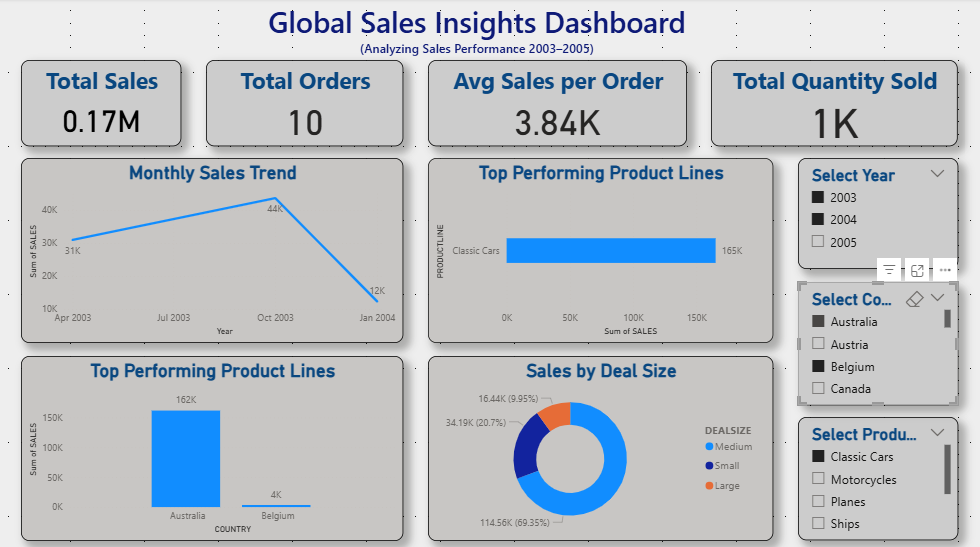

What the dashboard file says about the page in this screenshot:
{"tool":"powerbi","page":{"name":"Page 1","canvas":[1280,720],"ordinal":0},"visuals":[{"type":"textbox","box":[0,0,1248,80],"z":0},{"type":"card","title":"Total Sales","fields":{"Values":["Sum(sales_data_sample.SALES)"]},"box":[32,80,208,112],"z":1000},{"type":"card","title":"Total Orders","fields":{"Values":["Count(sales_data_sample.ORDERNUMBER)"]},"box":[272,80,256,112],"z":2000},{"type":"card","title":"Avg Sales per Order","fields":{"Values":["Avg(sales_data_sample.SALES)"]},"box":[560,80,336,112],"z":3000},{"type":"card","title":"Total Quantity Sold","fields":{"Values":["Sum(sales_data_sample.QUANTITYORDERED)"]},"box":[928,80,320,112],"z":4000},{"type":"lineChart","title":"Monthly Sales Trend","fields":{"Category":["sales_data_sample.ORDERDATE.Variation.Date Hierarchy.Year","sales_data_sample.ORDERDATE.Variation.Date Hierarchy.Quarter","sales_data_sample.ORDERDATE.Variation.Date Hierarchy.Month","sales_data_sample.ORDERDATE.Variation.Date Hierarchy.Day"],"Y":["Sum(sales_data_sample.SALES)"]},"box":[32,208,496,240],"z":5000},{"type":"clusteredBarChart","title":"Top Performing Product Lines","fields":{"Category":["sales_data_sample.PRODUCTLINE"],"Y":["Sum(sales_data_sample.SALES)"]},"box":[560,208,448,240],"z":6000},{"type":"clusteredColumnChart","title":"Top Performing Product Lines","fields":{"Category":["sales_data_sample.COUNTRY"],"Y":["Sum(sales_data_sample.SALES)"]},"box":[32,464,496,240],"z":7000},{"type":"donutChart","title":"Sales by Deal Size","fields":{"Category":["sales_data_sample.DEALSIZE"],"Y":["Sum(sales_data_sample.SALES)"]},"box":[560,464,448,240],"z":8000},{"type":"slicer","title":"Total Sales","fields":{"Values":["sales_data_sample.YEAR_ID"]},"box":[1040,208,208,144],"z":9000},{"type":"slicer","title":"Total Sales","fields":{"Values":["sales_data_sample.COUNTRY"]},"box":[1040,368,208,160],"z":10000},{"type":"slicer","title":"Total Sales","fields":{"Values":["sales_data_sample.PRODUCTLINE"]},"box":[1040,544,208,160],"z":11000}]}

Visuals, with their boxes in screenshot pixels (x1, y1, x2, y2), scaled from the page's 1280x720 canvas onto the 980x547 screenshot:
textbox: 0:0:956:61
"Total Sales" card: 24:61:184:146
"Total Orders" card: 208:61:404:146
"Avg Sales per Order" card: 429:61:686:146
"Total Quantity Sold" card: 710:61:956:146
"Monthly Sales Trend" lineChart: 24:158:404:340
"Top Performing Product Lines" clusteredBarChart: 429:158:772:340
"Top Performing Product Lines" clusteredColumnChart: 24:353:404:535
"Sales by Deal Size" donutChart: 429:353:772:535
"Total Sales" slicer: 796:158:956:267
"Total Sales" slicer: 796:280:956:401
"Total Sales" slicer: 796:413:956:535
